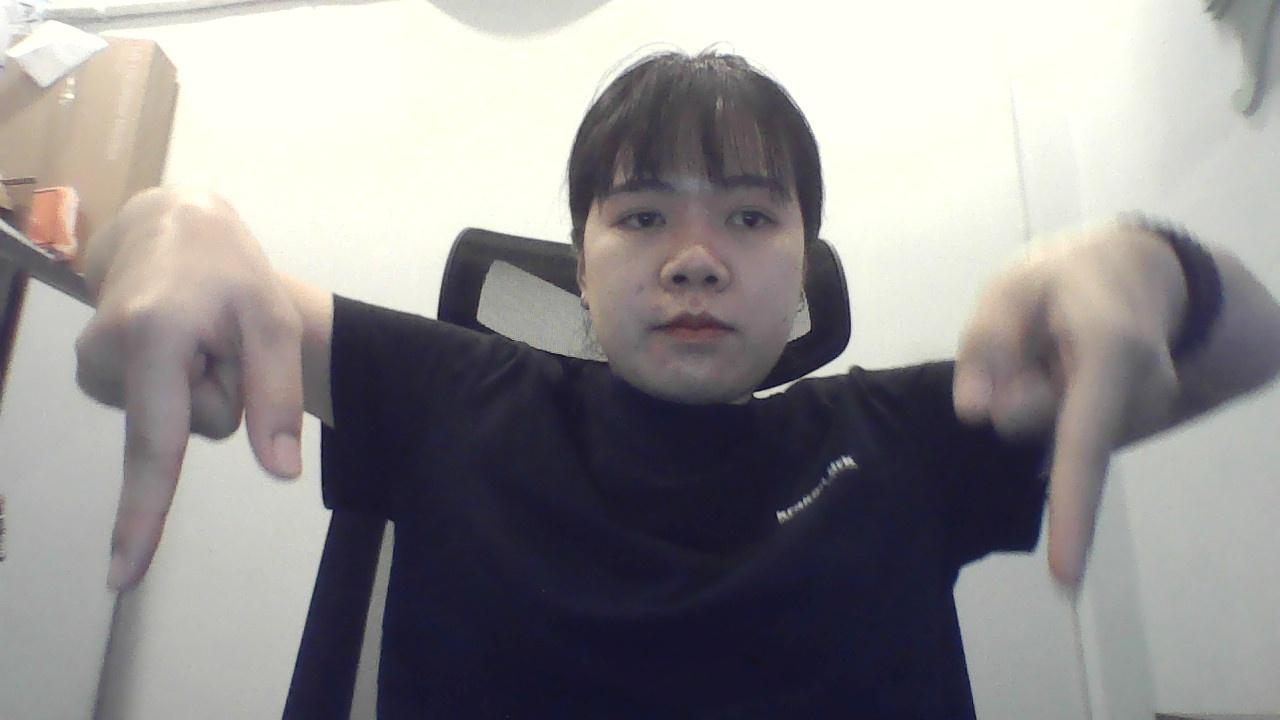Q: (938, 213, 1198, 608), (76, 207, 316, 613)
